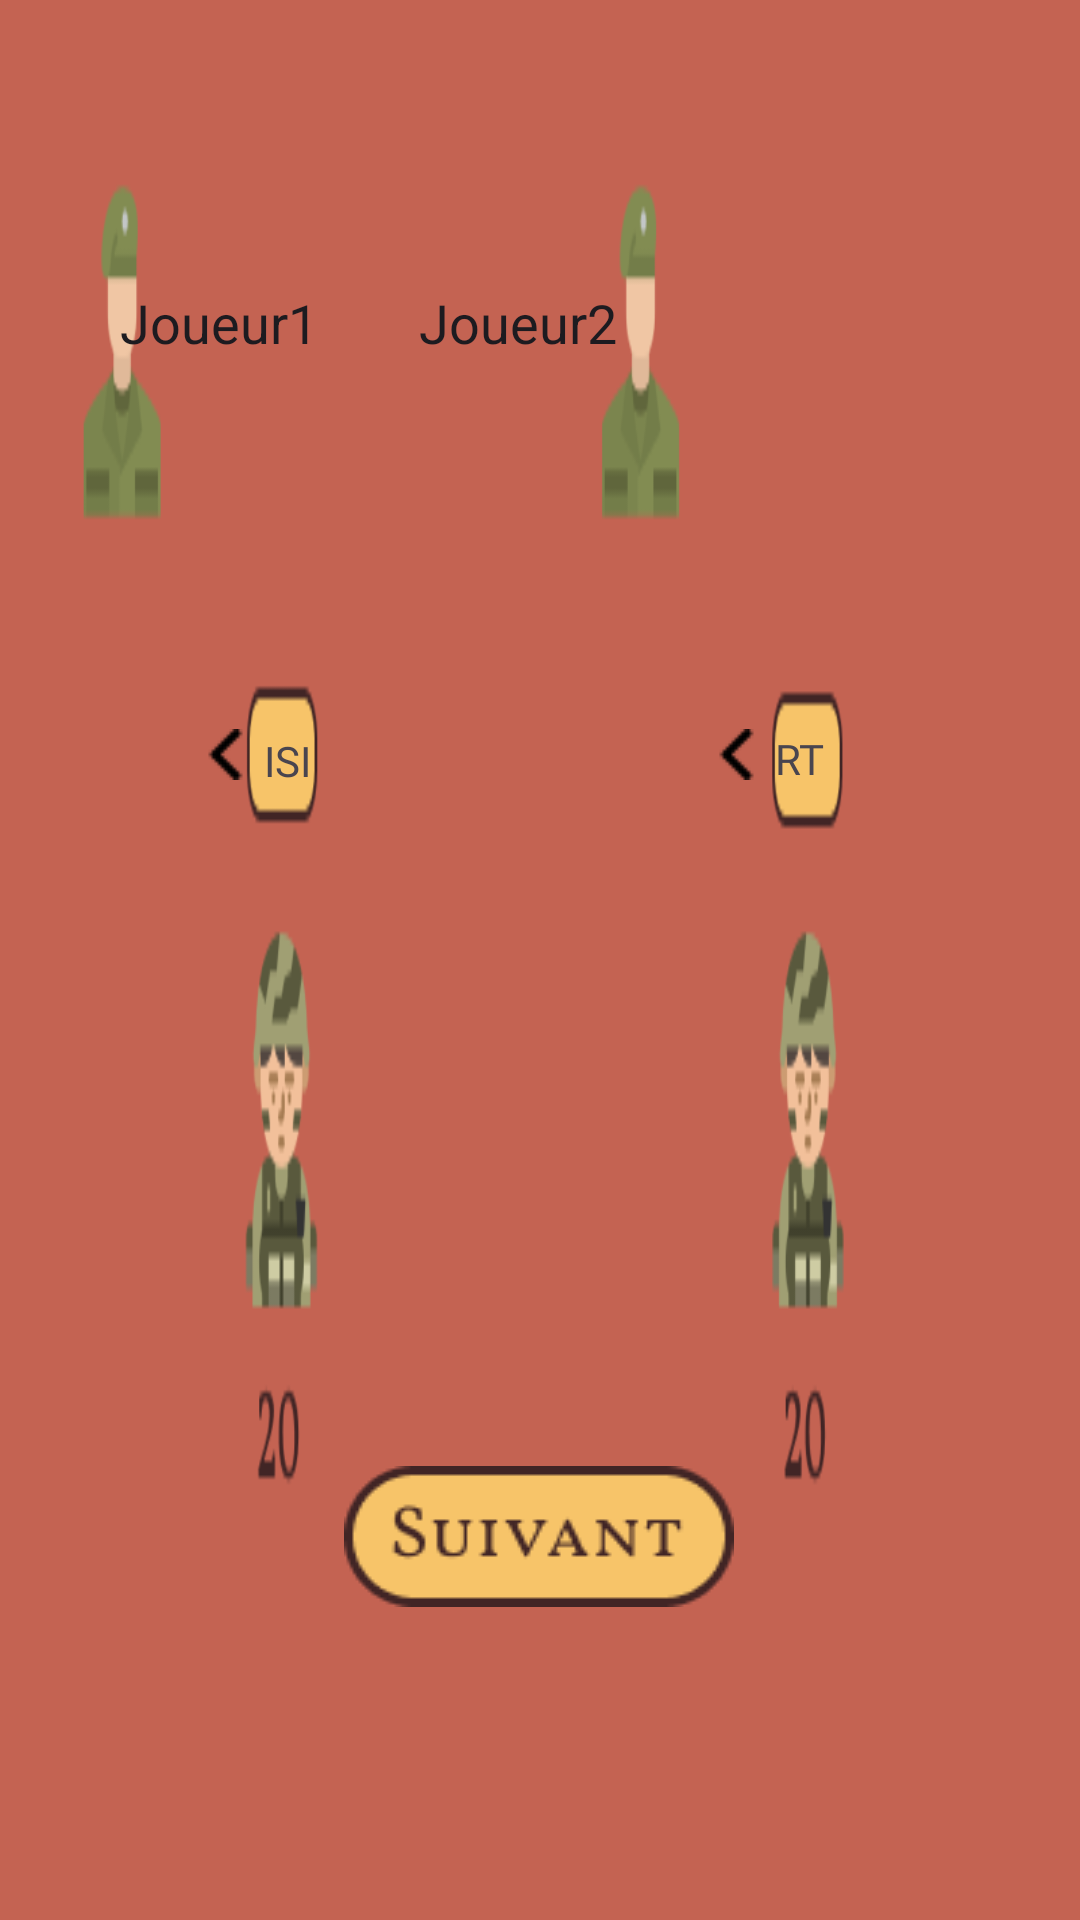

Named icons in this screenshot (1080*1920) and their bounding boxes, (x1, y1, x2, y2):
left arrow: (208, 729, 243, 780), (719, 729, 754, 780)
